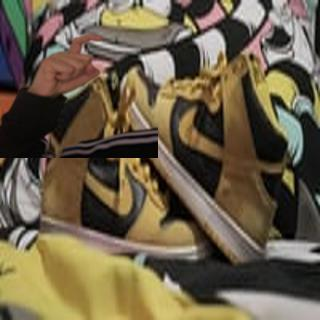WHY: (26, 30, 110, 97)
